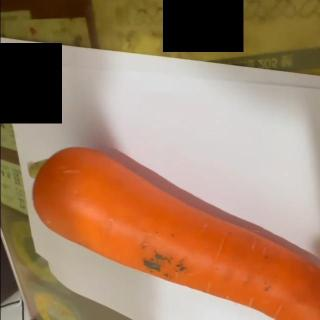carrot: (27, 146, 320, 320)
